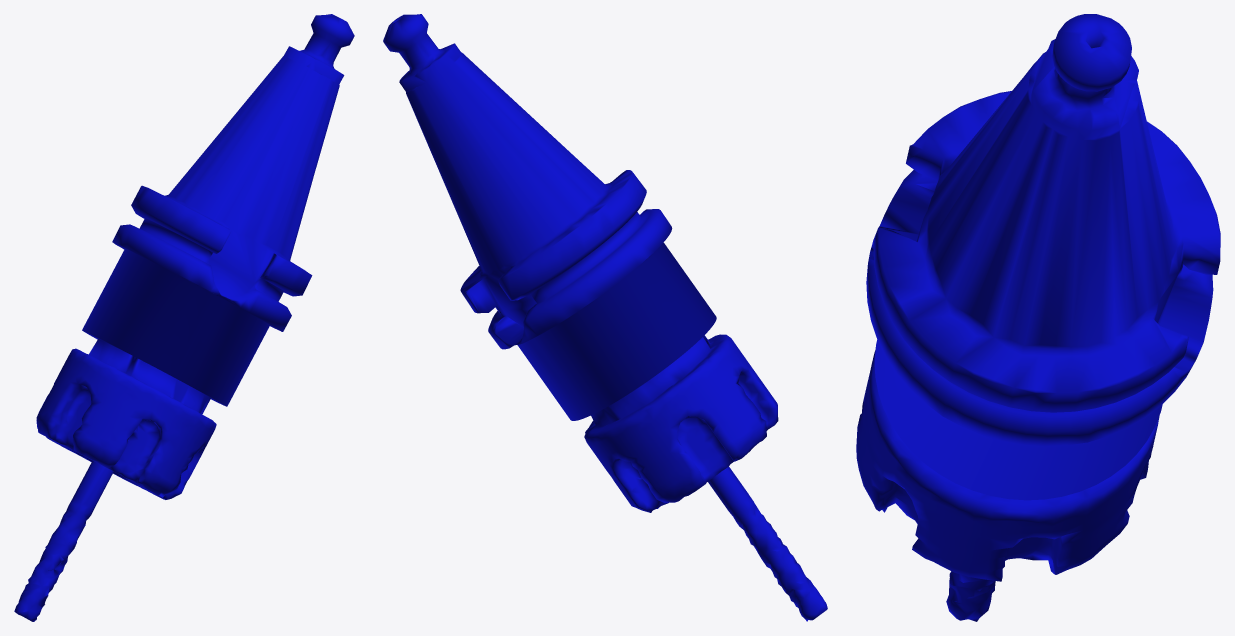
File: bunnyB.obj
3 renders of one model, left to right at view 1: azimuth 30°, elevation 25°; view 2: azimuth 150°, elevation 25°; view 3: azimuth 270°, elevation 25°, orthographic. The views are drawn at different scales.
Visible parts, largest first — view 1: daoju2; view 2: daoju2; view 3: daoju2.
Boxes of the visible parts, bbox=[...] form: daoju2: bbox=[14, 14, 354, 621]; daoju2: bbox=[383, 14, 827, 621]; daoju2: bbox=[856, 14, 1220, 621].
Size of the model in its own units: 0.6498 by 0.8365 by 0.3101.
